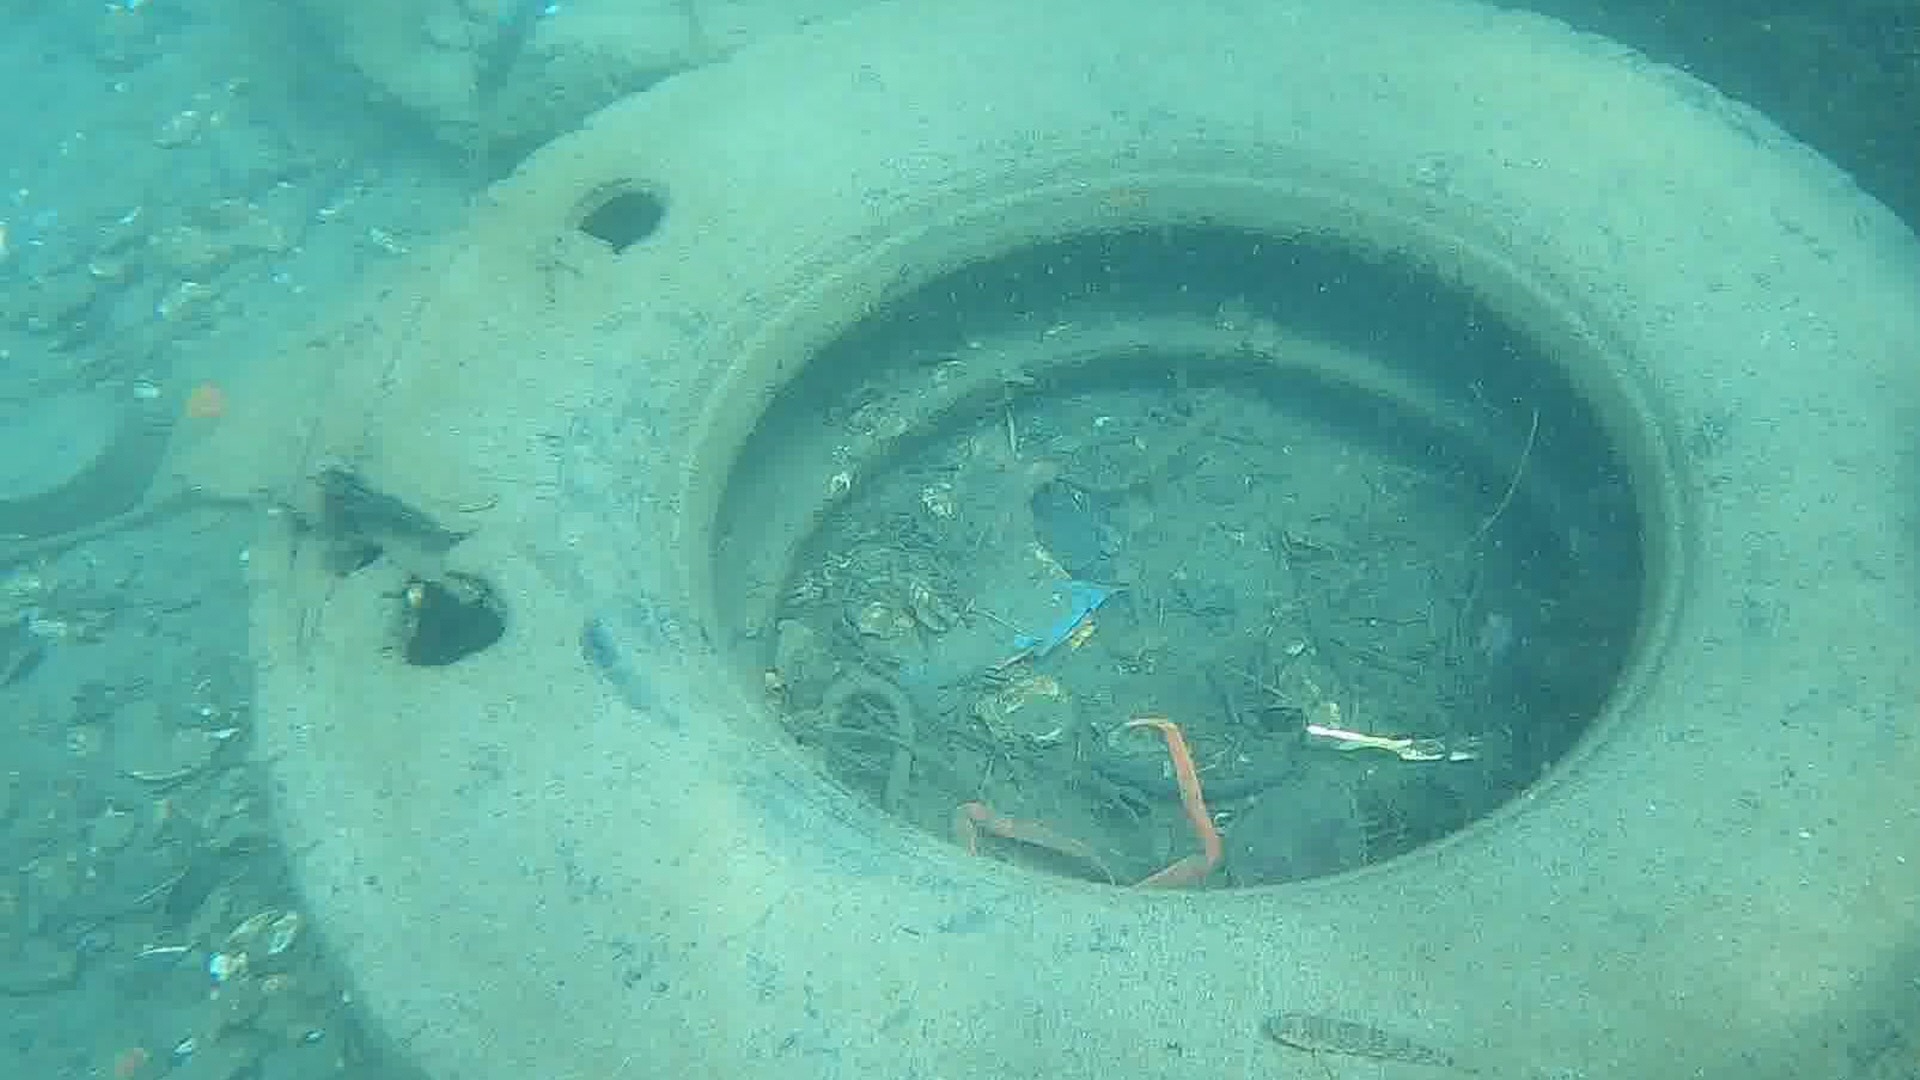tire: (241, 0, 1920, 1080)
